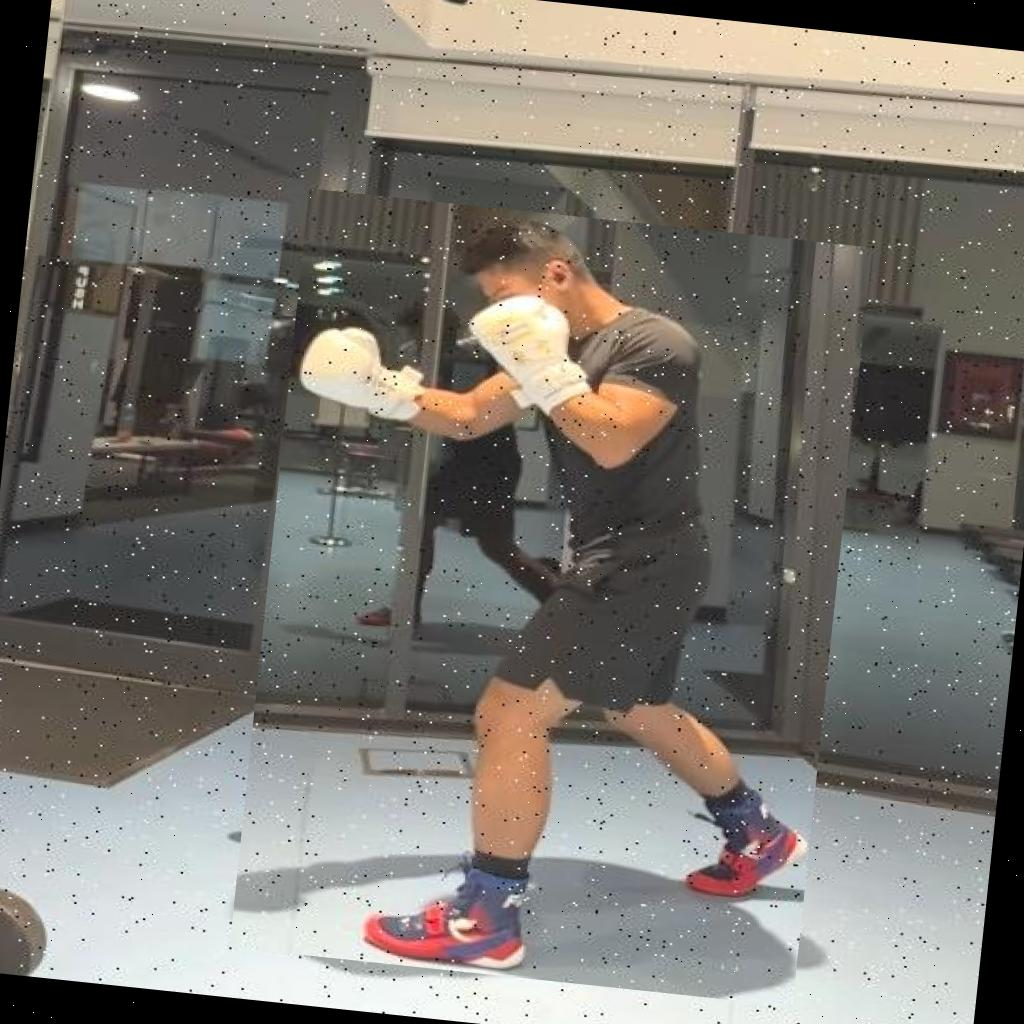uppercut: (229, 188, 872, 1006)
